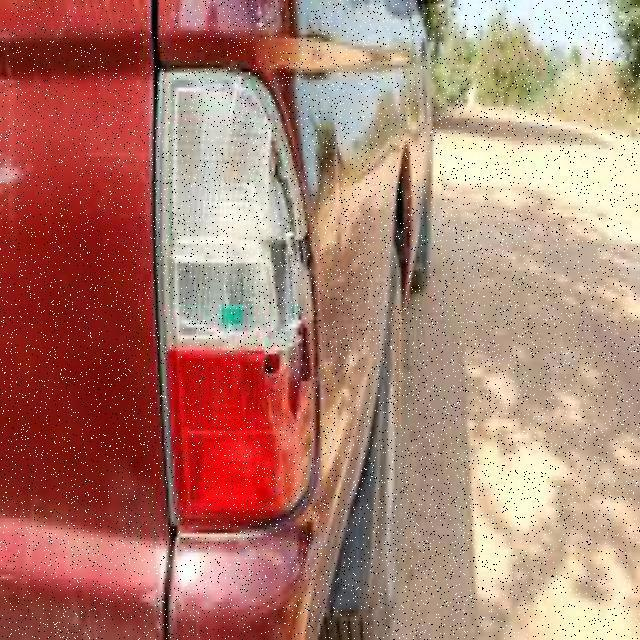Taillight-Damage: (121, 50, 332, 568)
